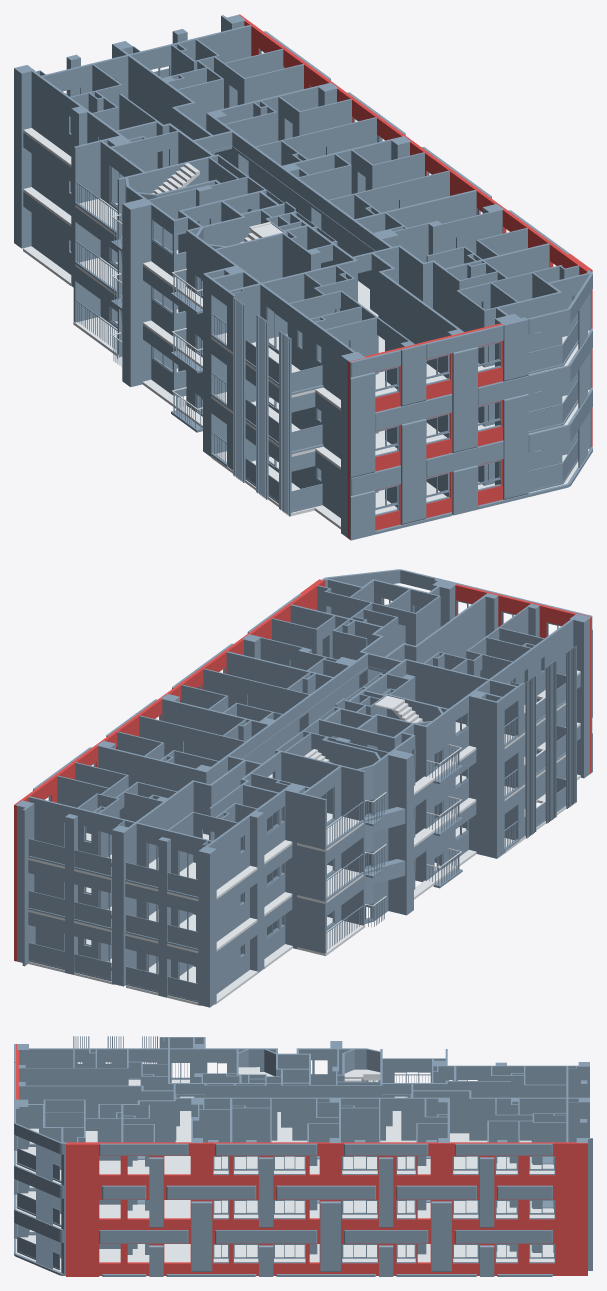
File: tower.glb
3 views of the same model, one above another, from view 1: azimuth 30°, elevation 25°; view 2: azimuth 150°, elevation 25°; view 3: azimuth 270°, elevation 25° (orthographic). The views are drawn at different scales.
Parts seen in each view (by area): view 1: 矩形豎框 12 x 5cm [631302], object 3, object 1; view 2: 矩形豎框 12 x 5cm [631302], object 3, object 1; view 3: 矩形豎框 12 x 5cm [631302], object 1, object 3.
Part boxes in pixels (left/top/right/bottom): 矩形豎框 12 x 5cm [631302]: left=14, top=14, right=592, bottom=540; object 3: left=23, top=128, right=589, bottom=529; object 1: left=239, top=14, right=592, bottom=539; 矩形豎框 12 x 5cm [631302]: left=15, top=569, right=592, bottom=1007; object 3: left=28, top=643, right=580, bottom=1005; object 1: left=14, top=579, right=591, bottom=961; 矩形豎框 12 x 5cm [631302]: left=14, top=1036, right=592, bottom=1276; object 1: left=16, top=1044, right=587, bottom=1276; object 3: left=16, top=1067, right=554, bottom=1272.
Bounding box in the file's own units: 17.92 × 10.47 × 40.45.
